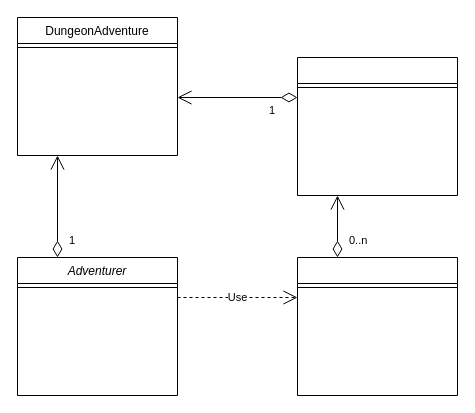
The diagram is 475 pixels wide and 413 high, and some of its shapes have lost their labels. Here are the shapes that lost their labels. From the top down, the box of each, then its label:
(296, 56, 458, 196): Dungeon
(296, 256, 458, 396): Room
